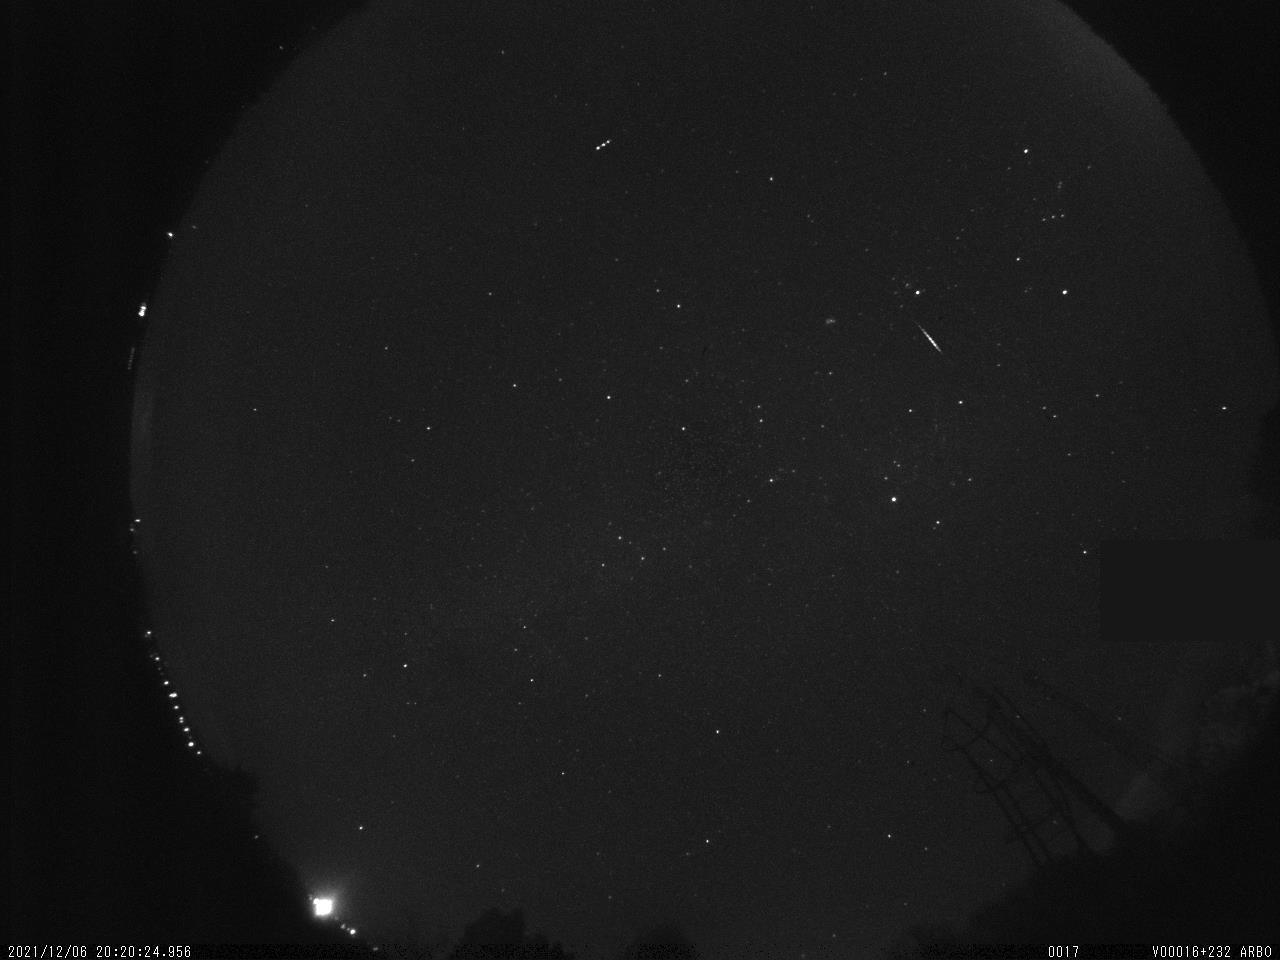meteor: (872, 291, 978, 370)
